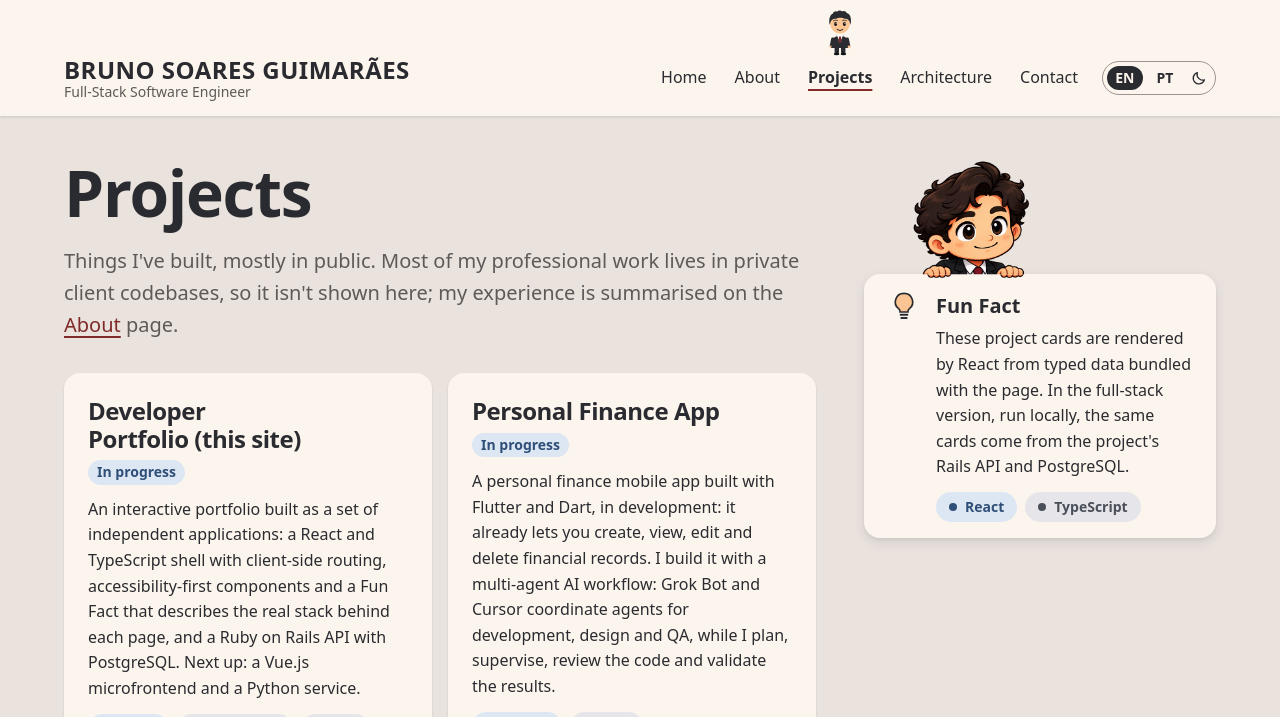
Test: page transitions › crossfades the inline About link on Projects
Expected: the heading "Projects" is shown, [64,149,311,236]
Click the 2nd link "About" at (92, 325), box [64,311,121,338]
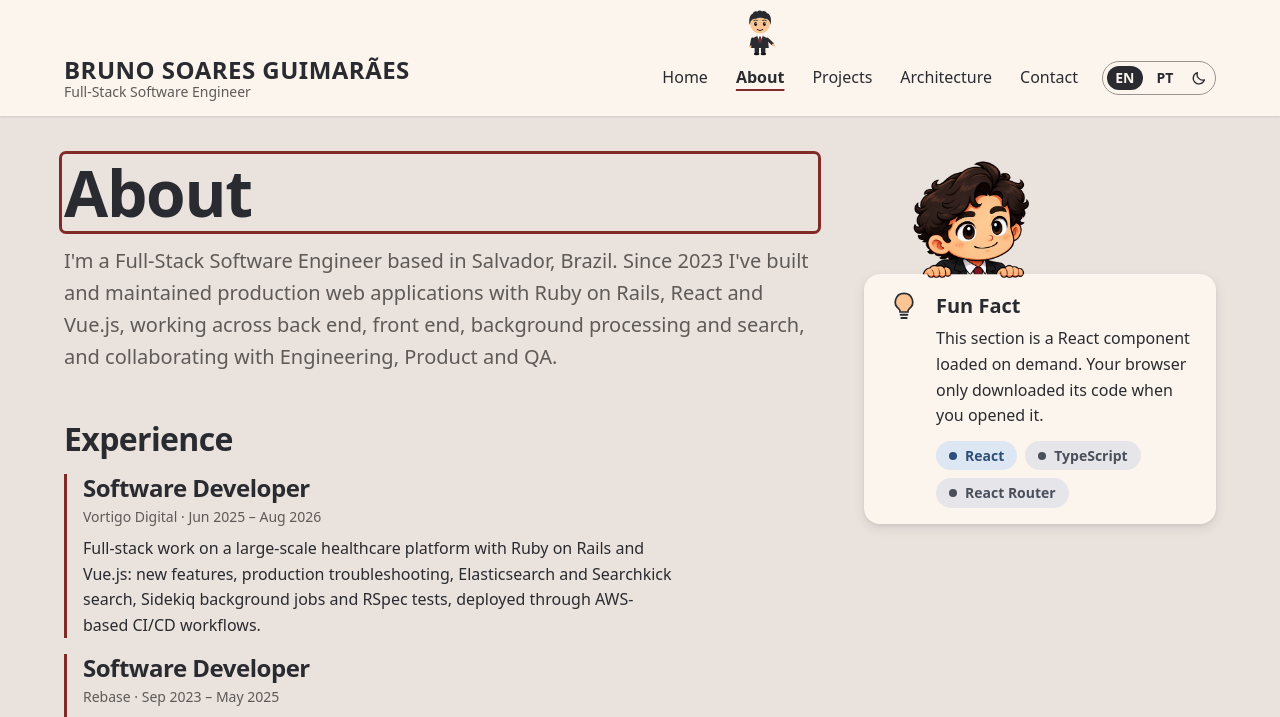
Expected: the heading "About" is shown, [64,149,252,236]
